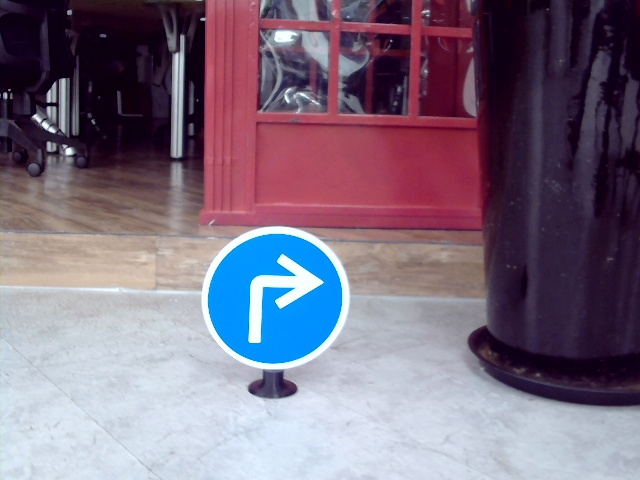turn_right: (235, 254, 320, 343)
